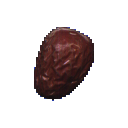gd: (25, 23, 108, 113)
